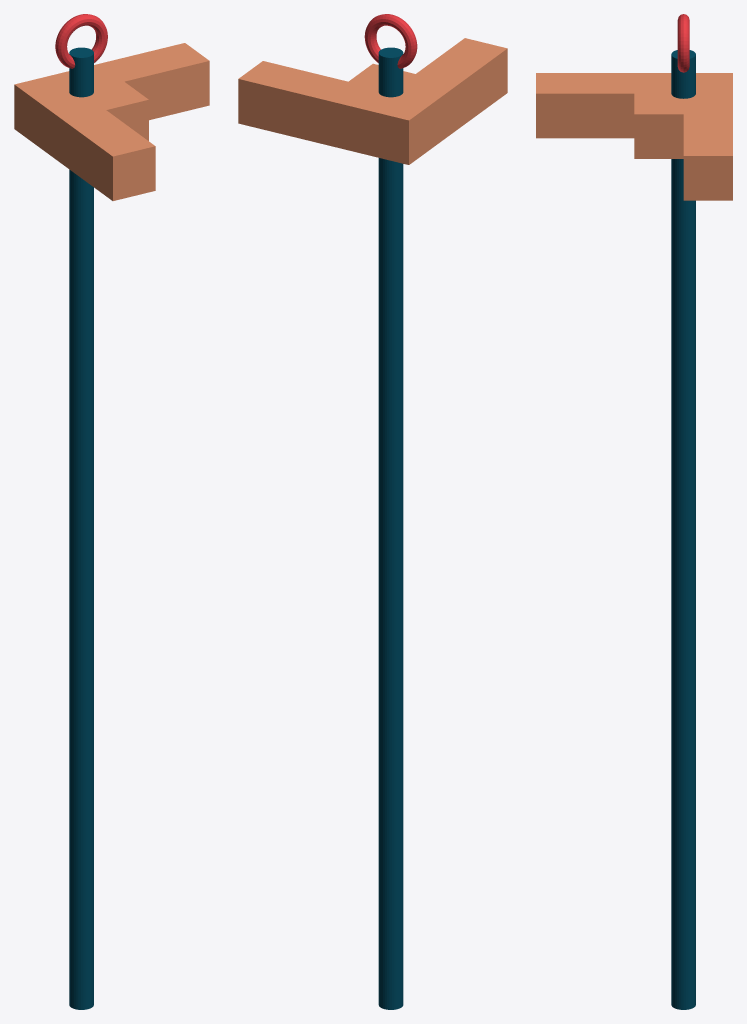
The model's file is DragableBridge.fbx.
The picture shows the model from 3 angles, left to right: view 1: azimuth 30°, elevation 25°; view 2: azimuth 150°, elevation 25°; view 3: azimuth 270°, elevation 25°; orthographic projection.
Visible parts, largest first — view 1: VerticalColumn, Bridge, Handle; view 2: VerticalColumn, Bridge, Handle; view 3: VerticalColumn, Bridge, Handle.
Part boxes in pixels (bbox=[...]): VerticalColumn: bbox=[69, 47, 93, 1009]; Bridge: bbox=[14, 43, 209, 200]; Handle: bbox=[55, 14, 107, 68]; VerticalColumn: bbox=[378, 47, 403, 1009]; Bridge: bbox=[238, 38, 507, 164]; Handle: bbox=[364, 14, 417, 68]; VerticalColumn: bbox=[671, 50, 695, 1009]; Bridge: bbox=[536, 73, 732, 200]; Handle: bbox=[677, 14, 689, 72].
Size of the model in its own units: 40 by 222 by 40.
